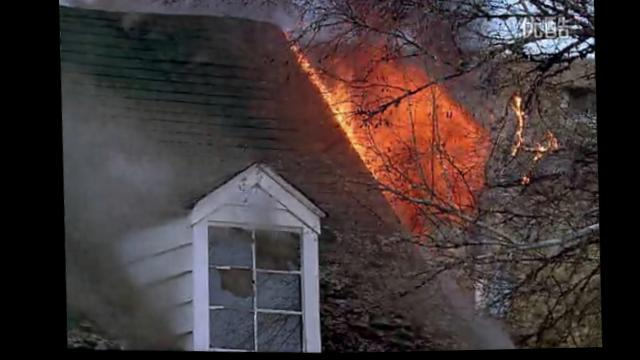fire: (329, 82, 353, 125), (349, 141, 369, 161), (340, 124, 354, 139), (309, 71, 320, 87), (321, 88, 331, 103), (300, 58, 311, 71)
